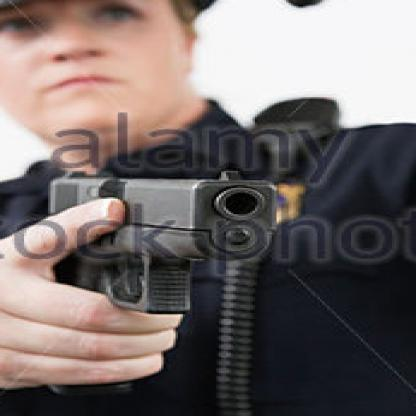gun: (34, 163, 288, 370)
